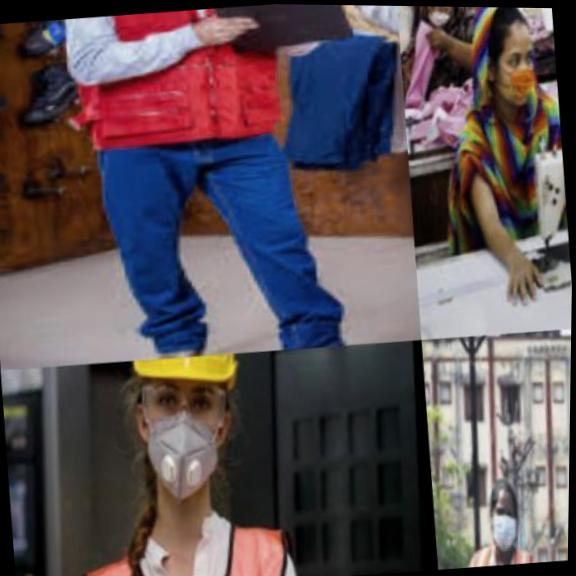safety_vest: (57, 1, 336, 174), (67, 507, 308, 576), (455, 544, 554, 570)
